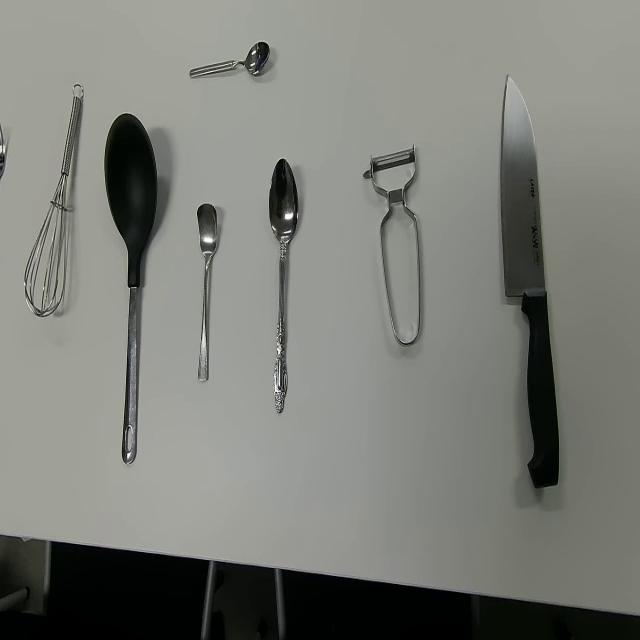Desert-Spoon: (268, 157, 299, 415)
Dinner-Fork: (0, 120, 7, 187)
Kitchen-Knife: (500, 72, 560, 492)
Peeler: (362, 142, 421, 346)
Serving-Spoon: (104, 111, 158, 464)
Tea-Spoon: (196, 202, 218, 382), (189, 40, 270, 80)
Whisk: (24, 82, 84, 318)
